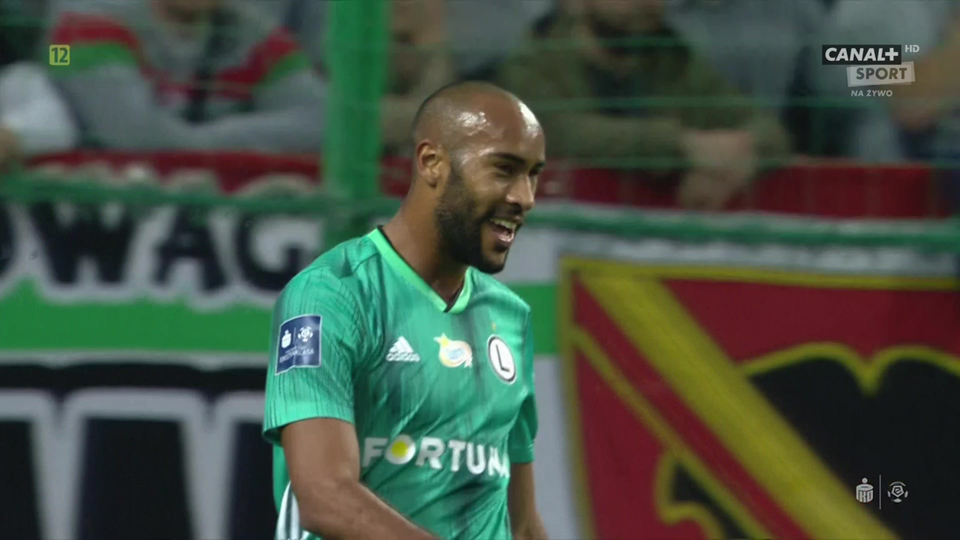Adidas: (384, 336, 421, 362)
